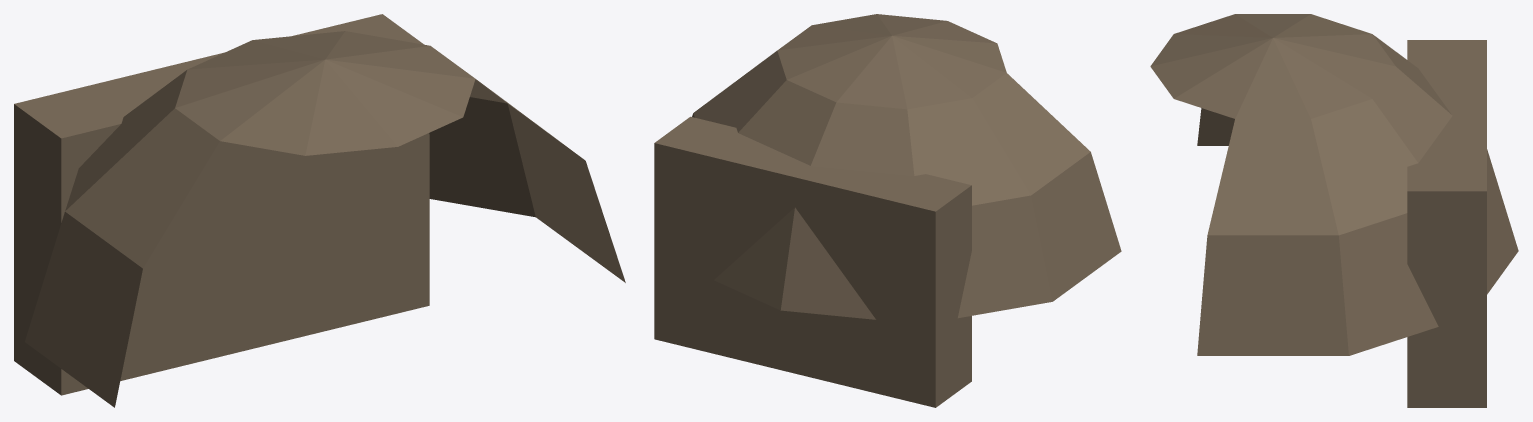
The model's file is slicked.glb.
3 views of the same model, side by side, from view 1: azimuth 30°, elevation 25°; view 2: azimuth 150°, elevation 25°; view 3: azimuth 270°, elevation 25° (orthographic). The views are drawn at different scales.
Parts seen in each view (by area): view 1: cap, box; view 2: cap, box; view 3: cap, box.
Boxes of the visible parts, x1,y1,x2,y2 form: cap: (25, 31, 625, 407); box: (14, 14, 429, 395); cap: (692, 14, 1121, 319); box: (654, 116, 971, 407); cap: (1150, 14, 1518, 355); box: (1407, 40, 1486, 407).
Size of the model in its own units: 0.4993 by 0.3263 by 0.3701.
